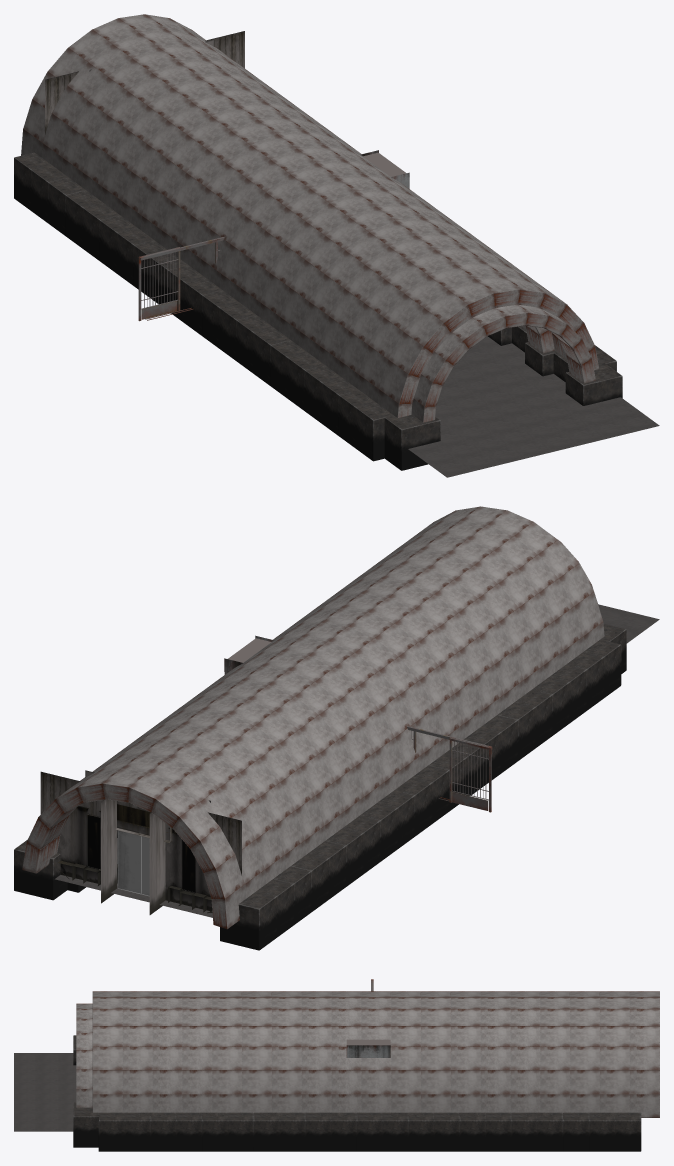
Rendered from ALL Section 1.fbx.
The picture shows the model from 3 angles, top to bottom: view 1: azimuth 30°, elevation 25°; view 2: azimuth 150°, elevation 25°; view 3: azimuth 270°, elevation 25°; orthographic projection. The views are drawn at different scales.
Visible parts, largest first — view 1: LeakingWall2, secondwalls1, Floor, Fence2, RightSideUVAdjusted1, RightSideUVAdjusted; view 2: LeakingWall2, secondwalls1, RightSideUVAdjusted, RightSideUVAdjusted1, Fence2, LiftDoors1, Floor, TopSideUVAdjusted, TopTicketBooth; view 3: LeakingWall2, secondwalls1, Floor, TopTicketBooth.
Boxes of the visible parts, <box> form: LeakingWall2: <box>21,14,599,422</box>; secondwalls1: <box>14,152,622,470</box>; Floor: <box>408,336,659,477</box>; Fence2: <box>138,237,224,321</box>; RightSideUVAdjusted1: <box>45,71,78,134</box>; RightSideUVAdjusted: <box>205,31,244,68</box>; LeakingWall2: <box>22,506,604,929</box>; secondwalls1: <box>14,624,626,950</box>; RightSideUVAdjusted: <box>40,771,117,903</box>; RightSideUVAdjusted1: <box>149,812,241,914</box>; Fence2: <box>407,726,492,812</box>; LiftDoors1: <box>117,830,149,896</box>; Floor: <box>55,604,659,917</box>; TopSideUVAdjusted: <box>85,770,210,842</box>; TopTicketBooth: <box>224,635,273,674</box>; LeakingWall2: <box>76,991,659,1117</box>; secondwalls1: <box>73,1035,641,1151</box>; Floor: <box>14,1053,76,1131</box>; TopTicketBooth: <box>346,1039,390,1057</box>.
Bounding box in the file's own units: 1114 × 514 × 2787.
